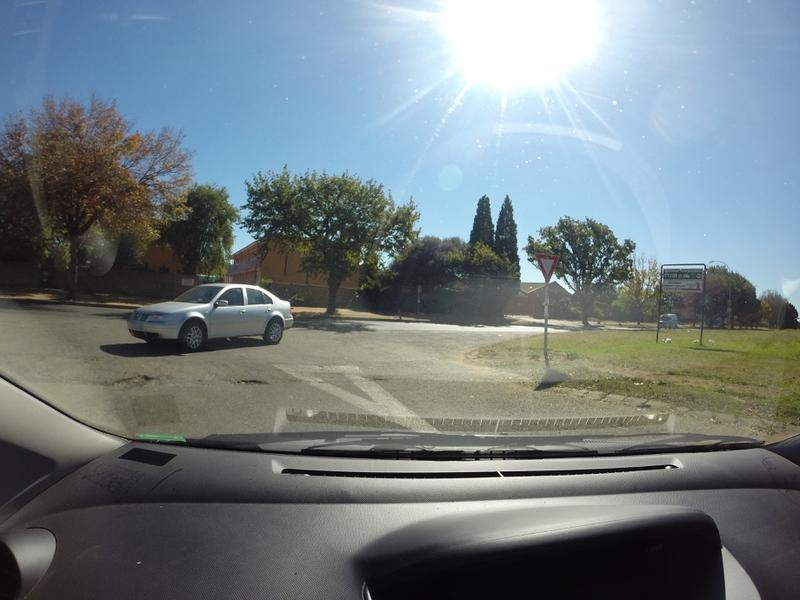pothole: (106, 372, 160, 392), (353, 372, 388, 385), (229, 376, 268, 387)
